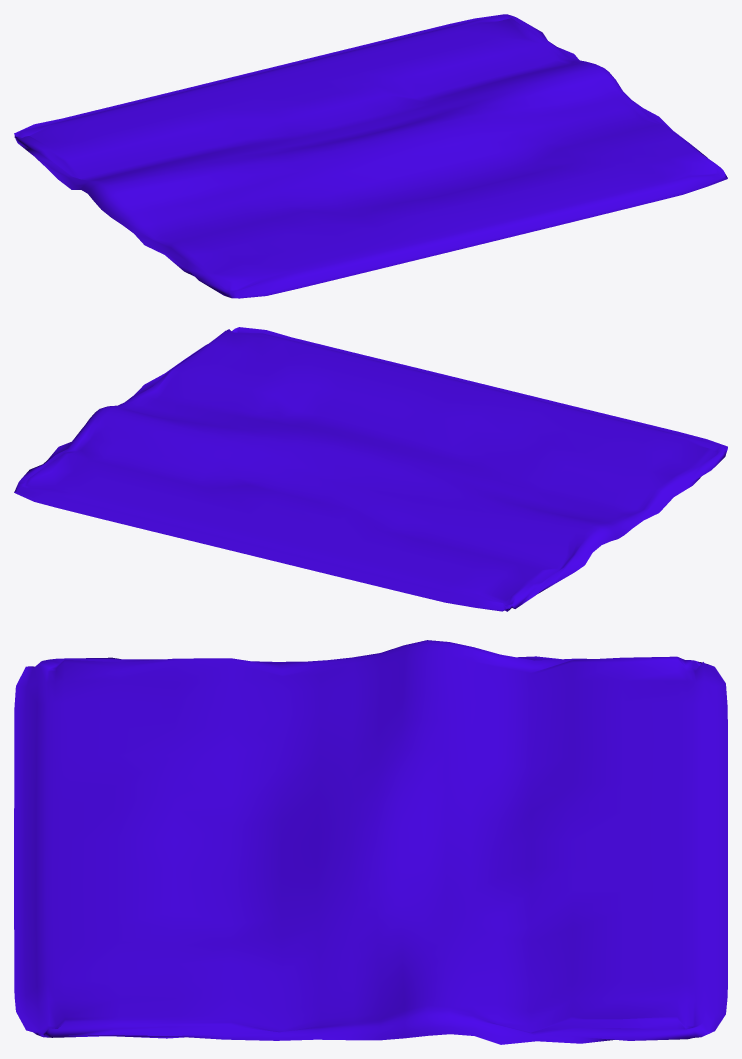
File: Tapijt.fbx
3 renders of one model, top to bottom at view 1: azimuth 30°, elevation 25°; view 2: azimuth 150°, elevation 25°; view 3: azimuth 270°, elevation 25°, orthographic. The views are drawn at different scales.
Visible parts, largest first — view 1: TapijtNetjes; view 2: TapijtNetjes; view 3: TapijtNetjes.
Part boxes in pixels (x1,y1,x2,y2): TapijtNetjes: (14,14,727,298); TapijtNetjes: (14,327,727,611); TapijtNetjes: (14,640,727,1044).
Size of the model in its own units: 198 by 7 by 155.
